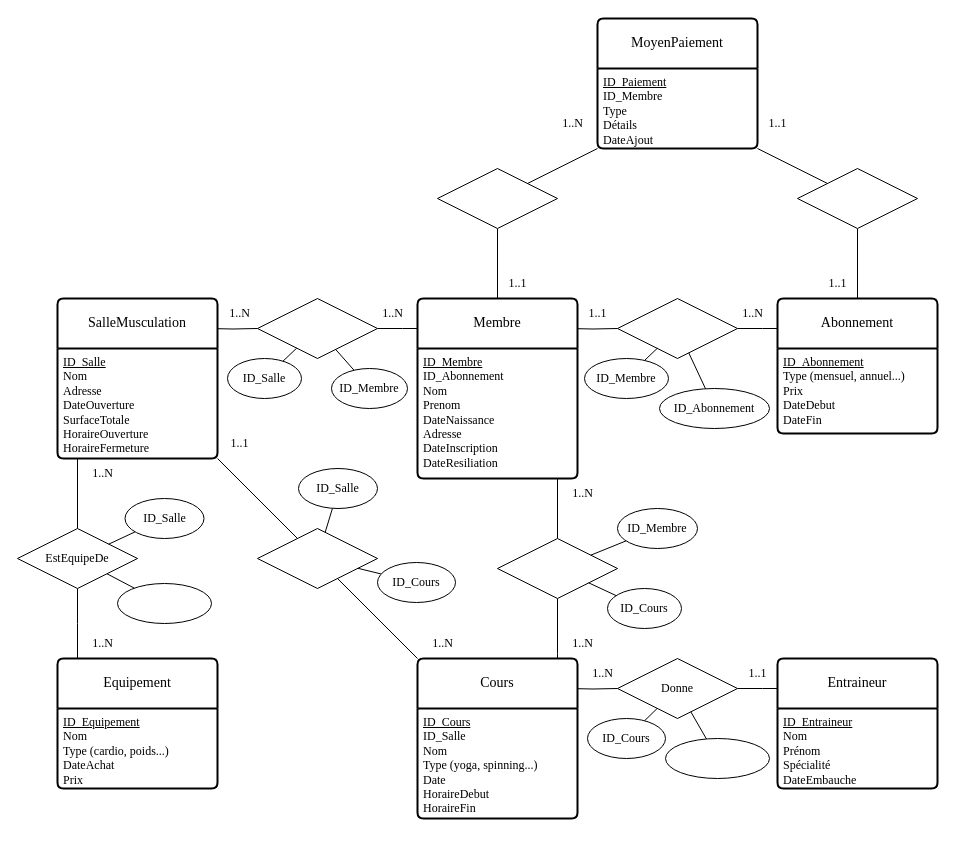
Some shapes in this 956 by 847 pixel diagram are drawn without their labels. Each missing label, with the centre of its shape:
EstMembreDe: (317,328)
ID_Entraineur: (717,758)
ID_Equipement: (164,603)
PaiementPour: (857,198)
Participe: (557,568)
Possede: (677,328)
SeTientDans: (317,558)
Utilise: (497,198)
